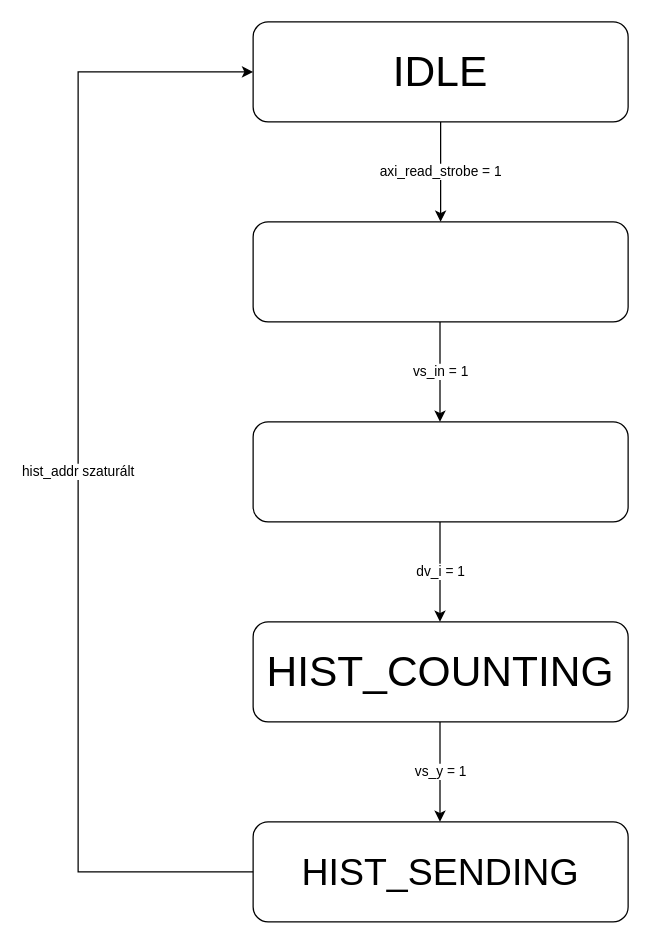
The diagram is 650 pixels wide and 944 high, and some of its shapes have lost their labels. The box of each missing label's shape, as (x1, y1, x2, y2) in pixels:
WAIT_ON_DV: (252, 421, 628, 522)
WAIT_ON_SYNC: (252, 221, 628, 322)
